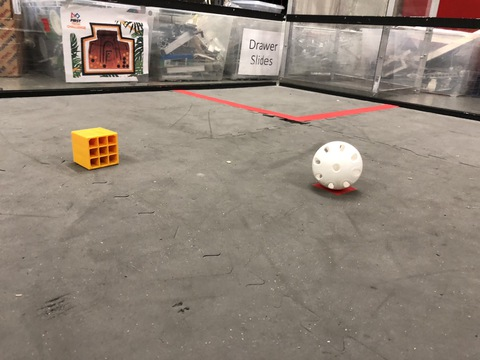ball: (288, 137, 381, 205)
block: (60, 127, 128, 175)
